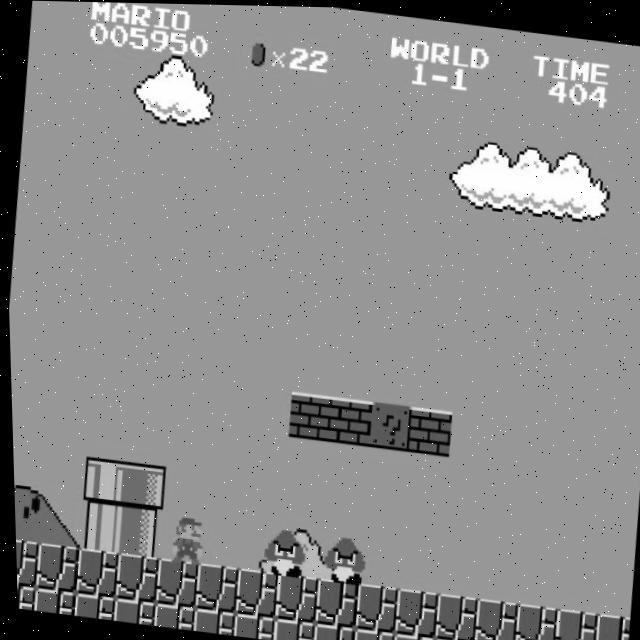1- brick_block: (284, 389, 331, 440), (324, 394, 371, 445), (404, 404, 451, 455)
11- little_mario: (158, 512, 208, 565)
13- mystery_block: (364, 399, 411, 450)
14- pipe: (74, 501, 121, 552), (113, 506, 160, 557)
15- pipe_head: (77, 456, 124, 507), (117, 461, 164, 512)
17- undestructible_block: (149, 556, 197, 607), (189, 562, 237, 612), (388, 586, 436, 636), (30, 542, 77, 593), (70, 547, 117, 598), (229, 566, 276, 617), (269, 571, 316, 622), (309, 576, 356, 627), (349, 581, 396, 632), (110, 552, 157, 602), (429, 591, 476, 640), (469, 595, 516, 640), (508, 601, 555, 640), (548, 605, 595, 640), (12, 537, 37, 587), (108, 597, 152, 625), (148, 602, 192, 630), (588, 609, 627, 640), (29, 587, 72, 615), (69, 592, 112, 620), (228, 612, 272, 639), (189, 607, 232, 634), (268, 616, 312, 640), (307, 621, 351, 640), (347, 626, 391, 640), (14, 582, 32, 609), (388, 631, 431, 640), (428, 635, 471, 640)
8- goomba: (255, 523, 304, 577), (315, 531, 364, 585)
